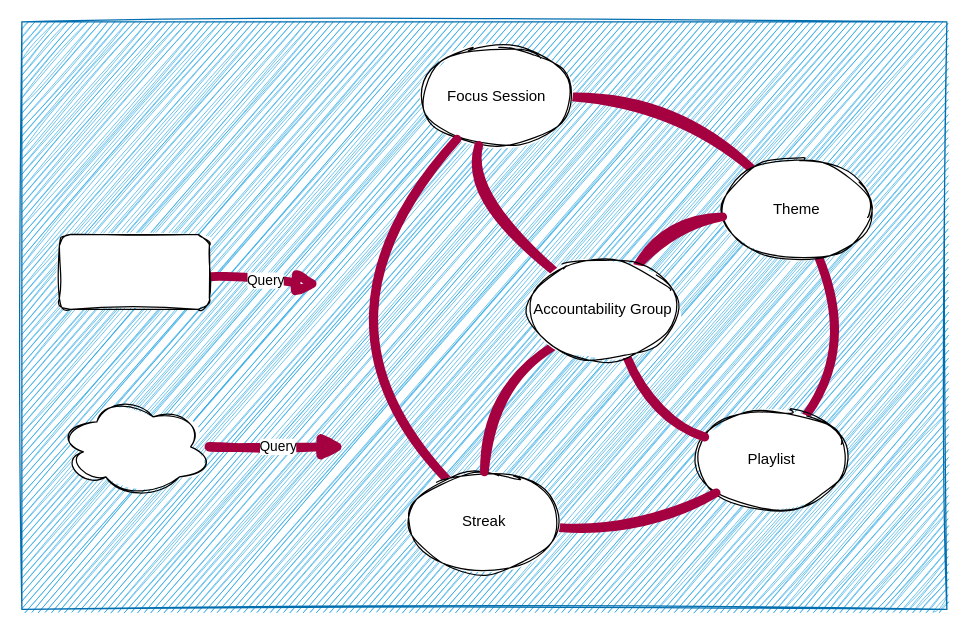
Some shapes in this 969 by 631 pixel diagram are drawn without their labels. Here are the shapes that lost their labels. From the top down, the centre of each, then its label:
At point (133, 271): "Amplify".
At point (133, 446): "AppSync".
